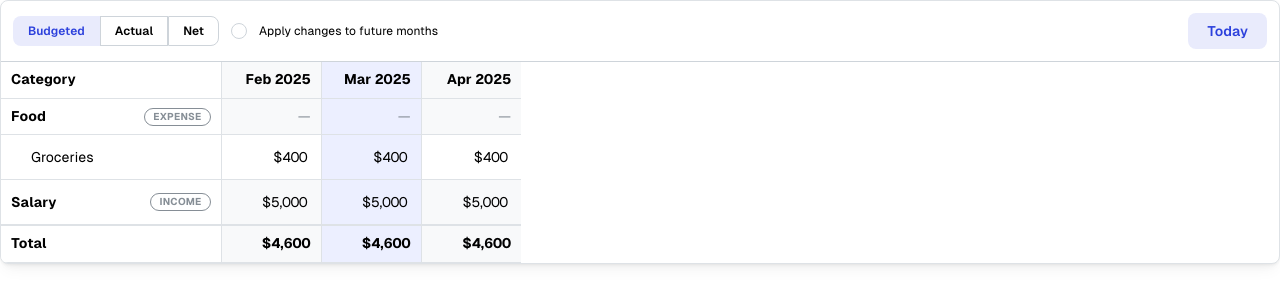
Scenario: BudgetMatrixView › switches to actual and net values with read-only cells and matching totals
Expected: the table named "Budget matrix" is shown, x1=1 y1=62 x2=521 y2=263
Click the button "Actual" at (134, 31), box x1=100 y1=16 x2=168 y2=46
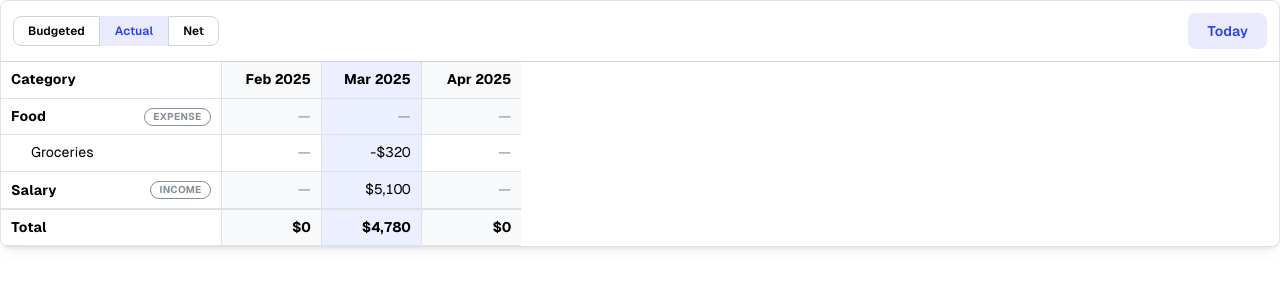
Result: the field is gone
Result: the checkbox is gone
Result: the cells read "—", "-$320", "—", in this order at x1=221 y1=135 x2=321 y2=172; x1=321 y1=135 x2=421 y2=172; x1=421 y1=135 x2=521 y2=172
Click the button "Net" at (194, 31), box x1=168 y1=16 x2=219 y2=46
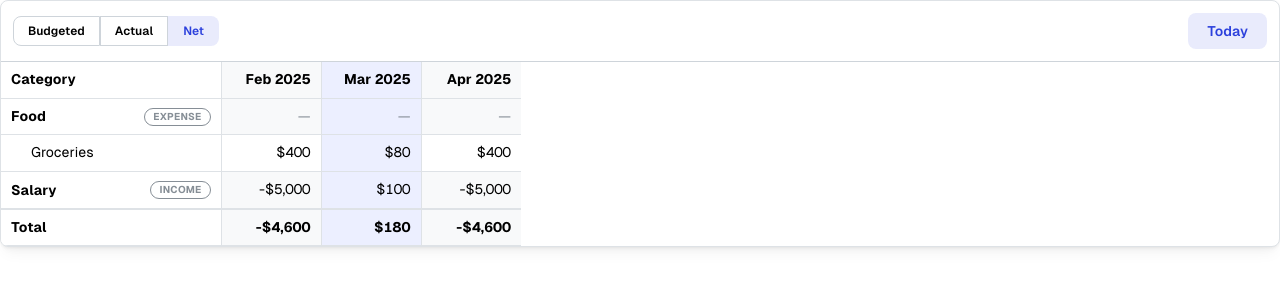
Result: the cell "$80" is shown at x1=321 y1=135 x2=421 y2=172
Result: the cell "$100" is shown at x1=321 y1=172 x2=421 y2=209
Result: the cell "$180" is shown at x1=321 y1=209 x2=421 y2=246
Click the button "Budgeted" at (56, 31), box x1=13 y1=16 x2=100 y2=46
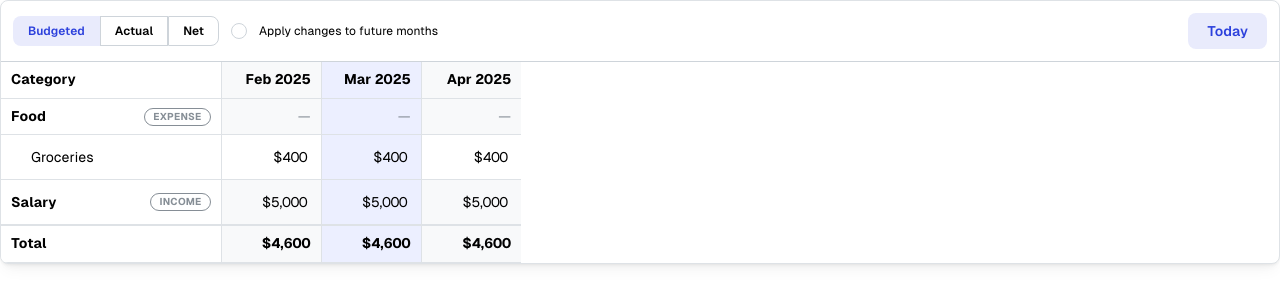
Result: the field named "Groceries budget for Mar 2025" is shown at x1=332 y1=142 x2=410 y2=172
